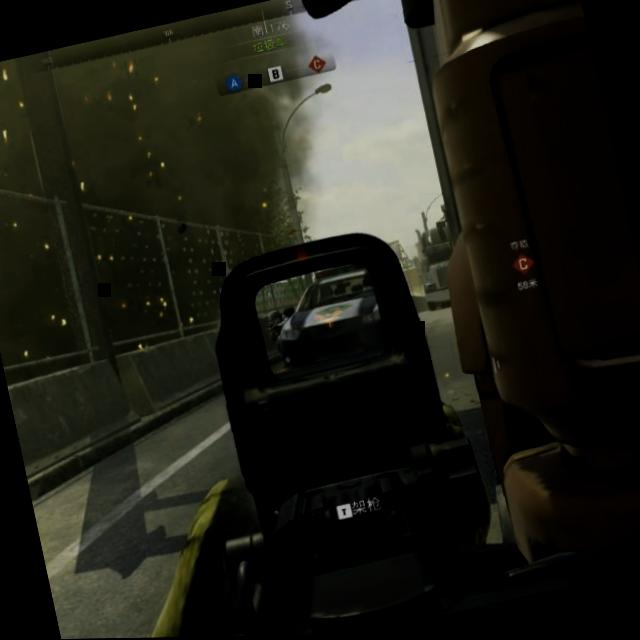MW2_body: (262, 307, 292, 340)
